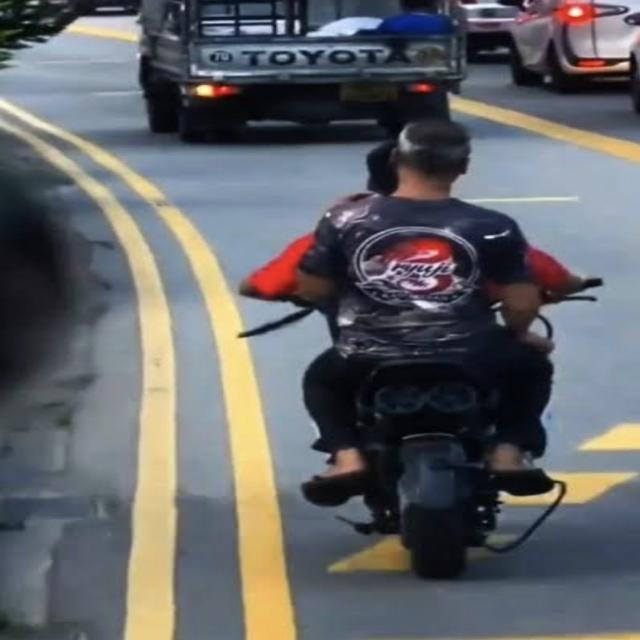WithoutHelmet: (296, 119, 558, 506), (234, 145, 590, 306)
